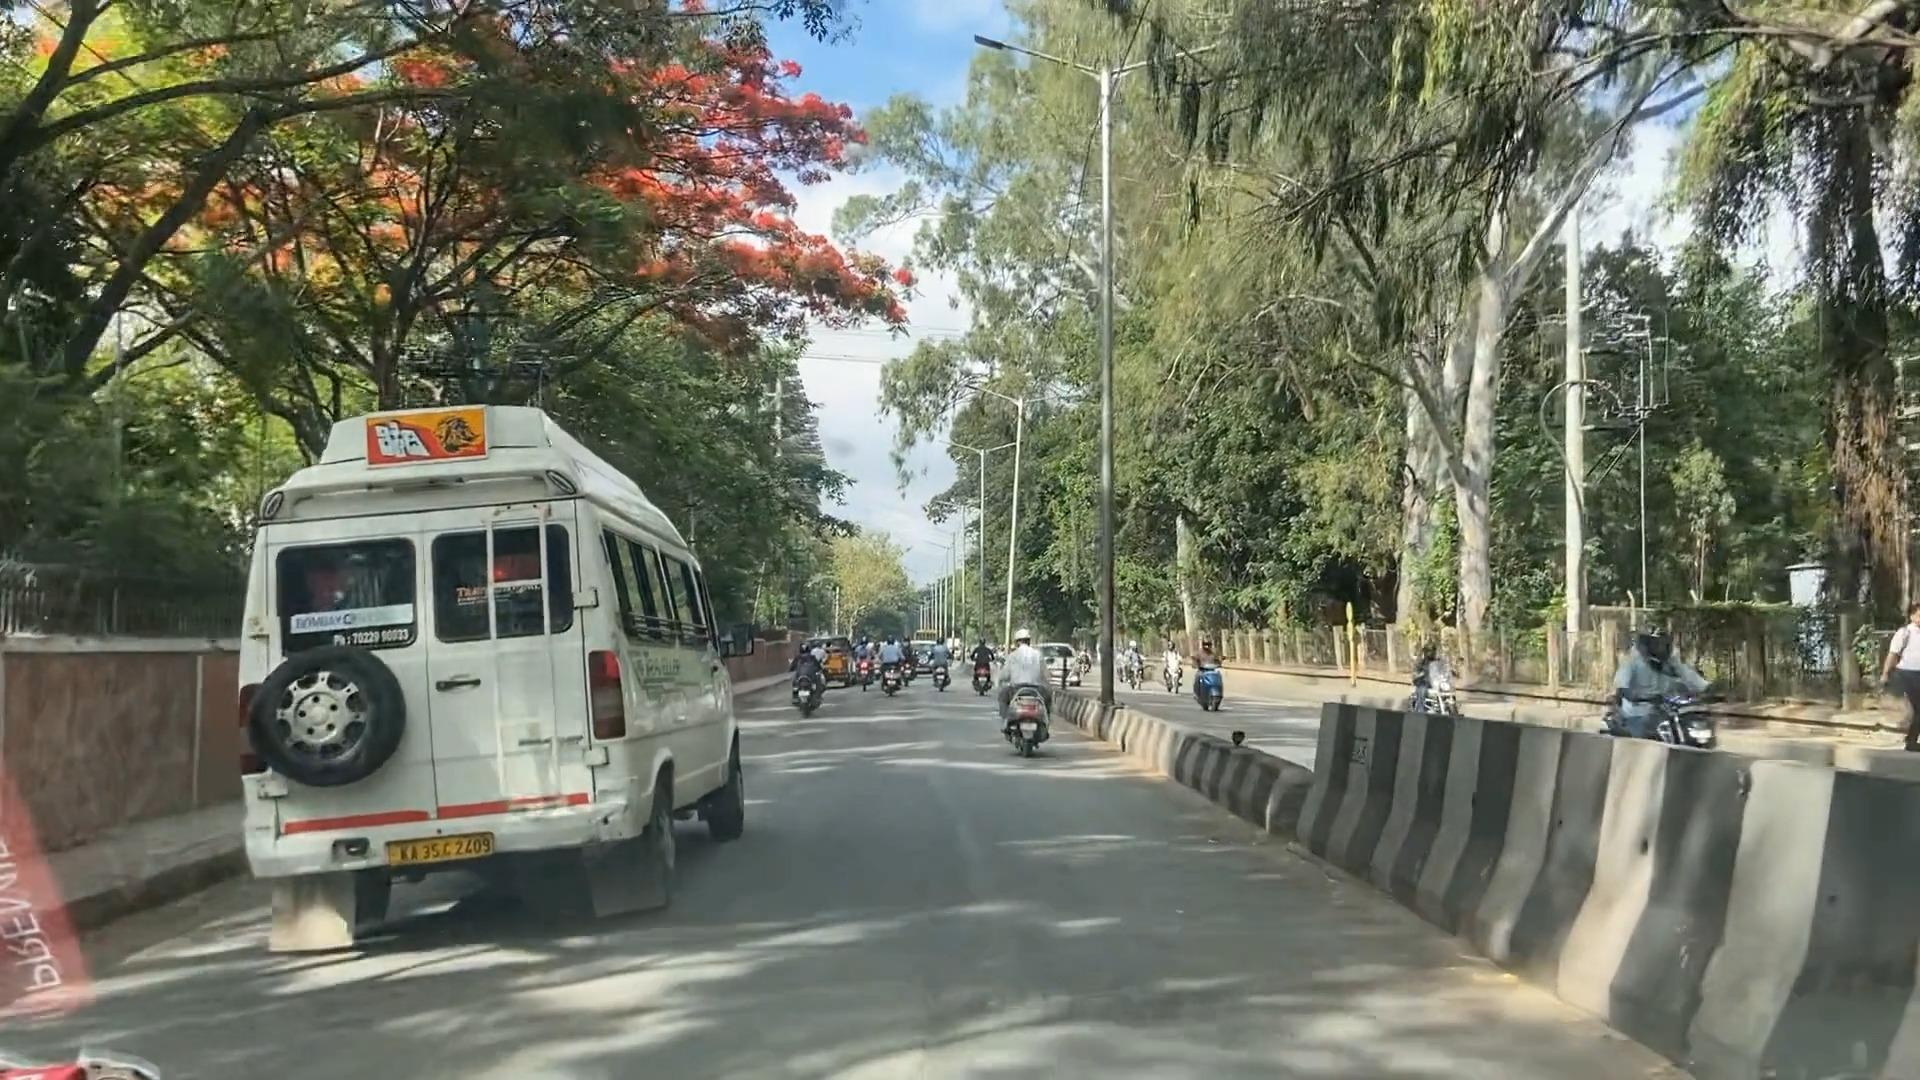HMV: (237, 469, 650, 919)
LMV: (1007, 626, 1048, 758), (793, 642, 828, 713), (932, 630, 955, 692)
